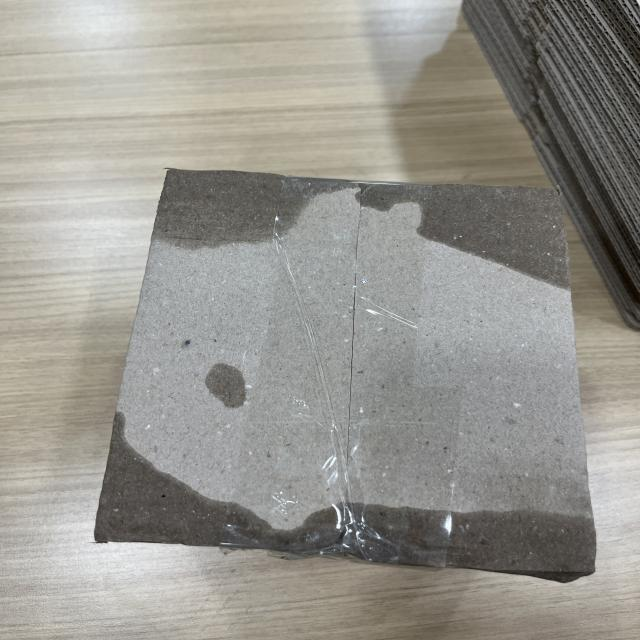wet: (94, 413, 292, 551), (296, 506, 598, 584), (365, 183, 569, 289), (151, 168, 350, 247)
